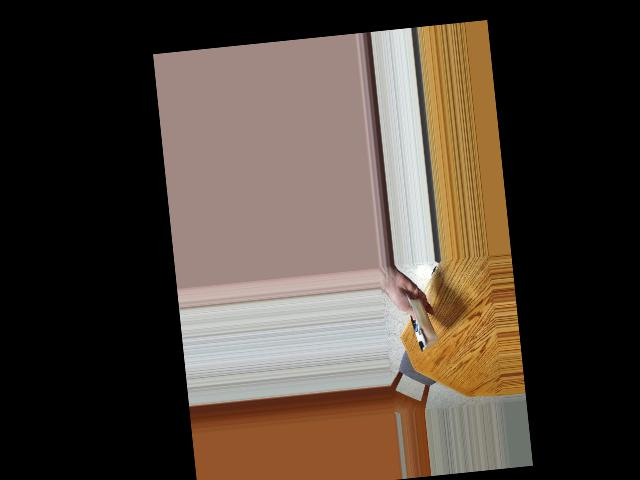cheese: (395, 295, 444, 351)
